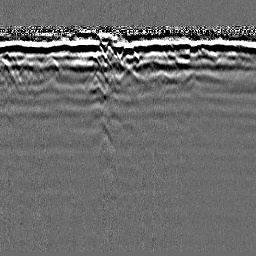cavity: (118, 39, 139, 61)
